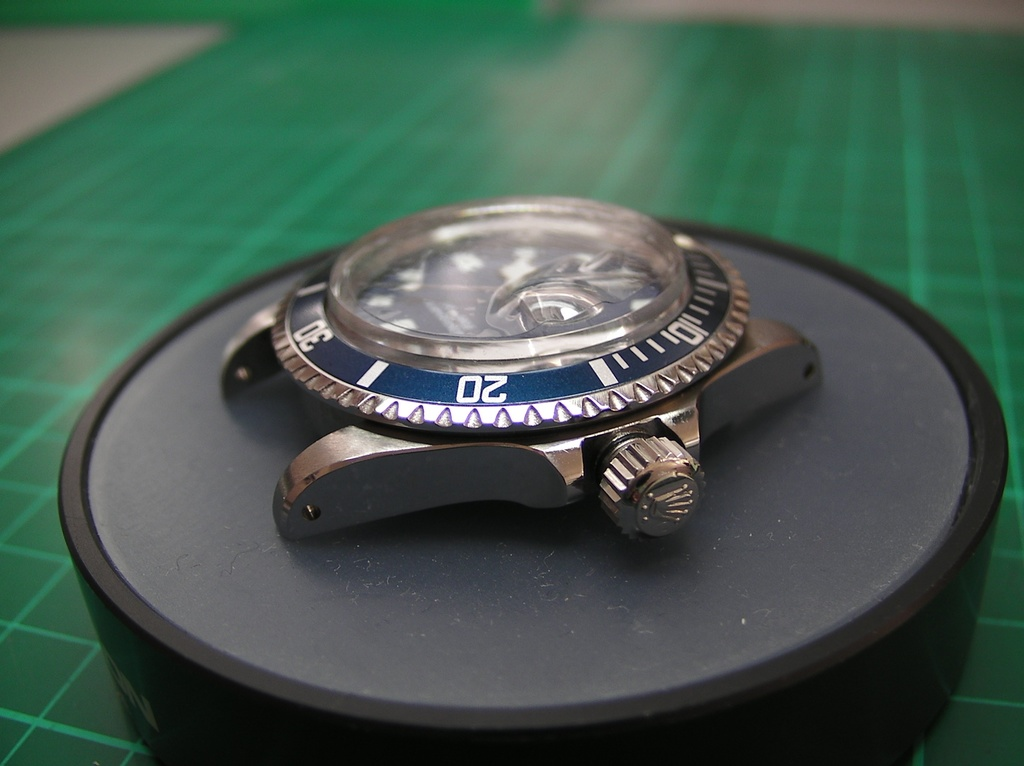watch: (205, 191, 823, 548)
